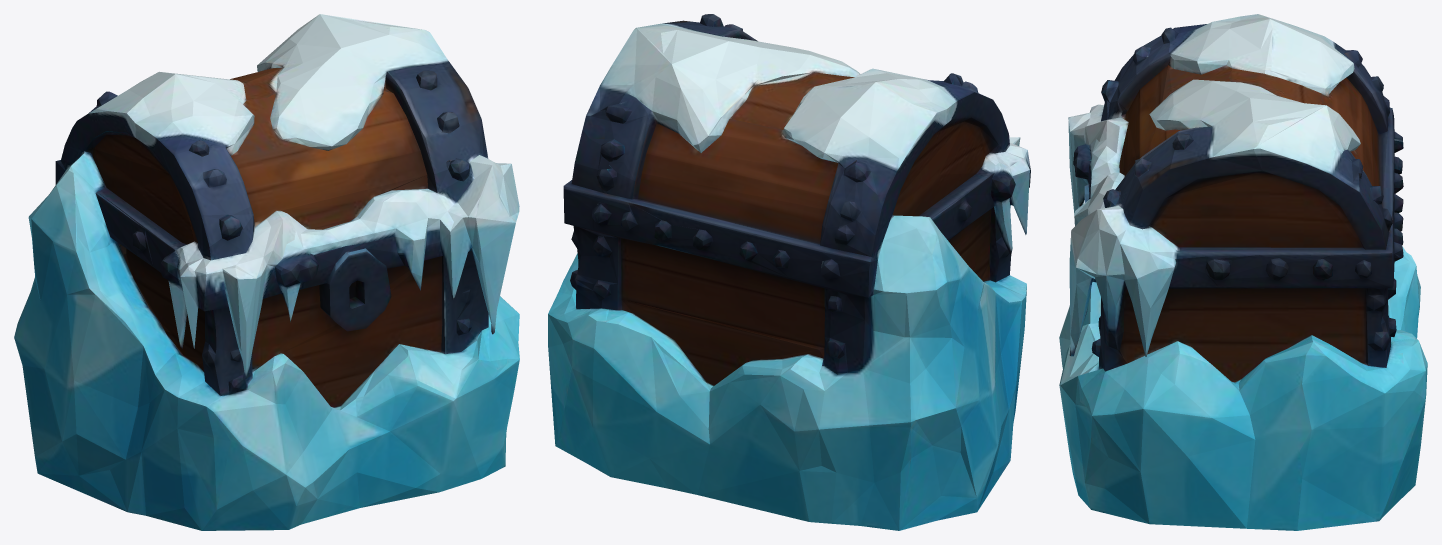
File: givre_coffre_gele.glb
3 renders of one model, left to right at view 1: azimuth 30°, elevation 25°; view 2: azimuth 150°, elevation 25°; view 3: azimuth 270°, elevation 25°, orthographic. The views are drawn at different scales.
Parts seen in each view (by area): view 1: geometry_0; view 2: geometry_0; view 3: geometry_0.
Boxes of the visible parts, x1,y1,x2,y2 form: geometry_0: (14, 14, 519, 530); geometry_0: (548, 14, 1030, 530); geometry_0: (1059, 14, 1427, 530).
Bounding box in the file's own units: 0.9881 × 0.9068 × 0.7984.
Materials: 1 (1 with a texture image).
